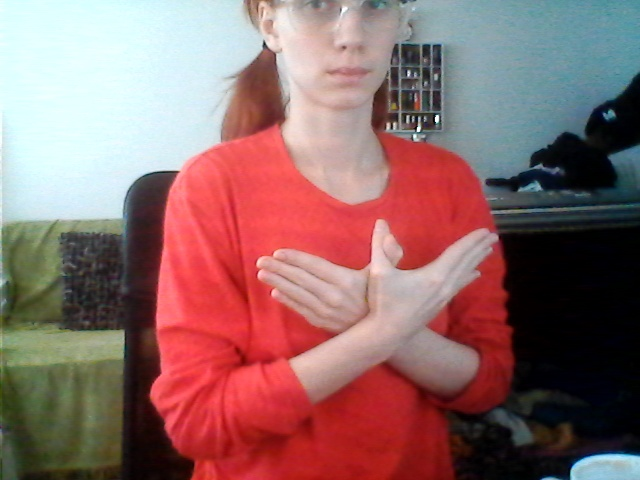lekar: (250, 209, 500, 387)
